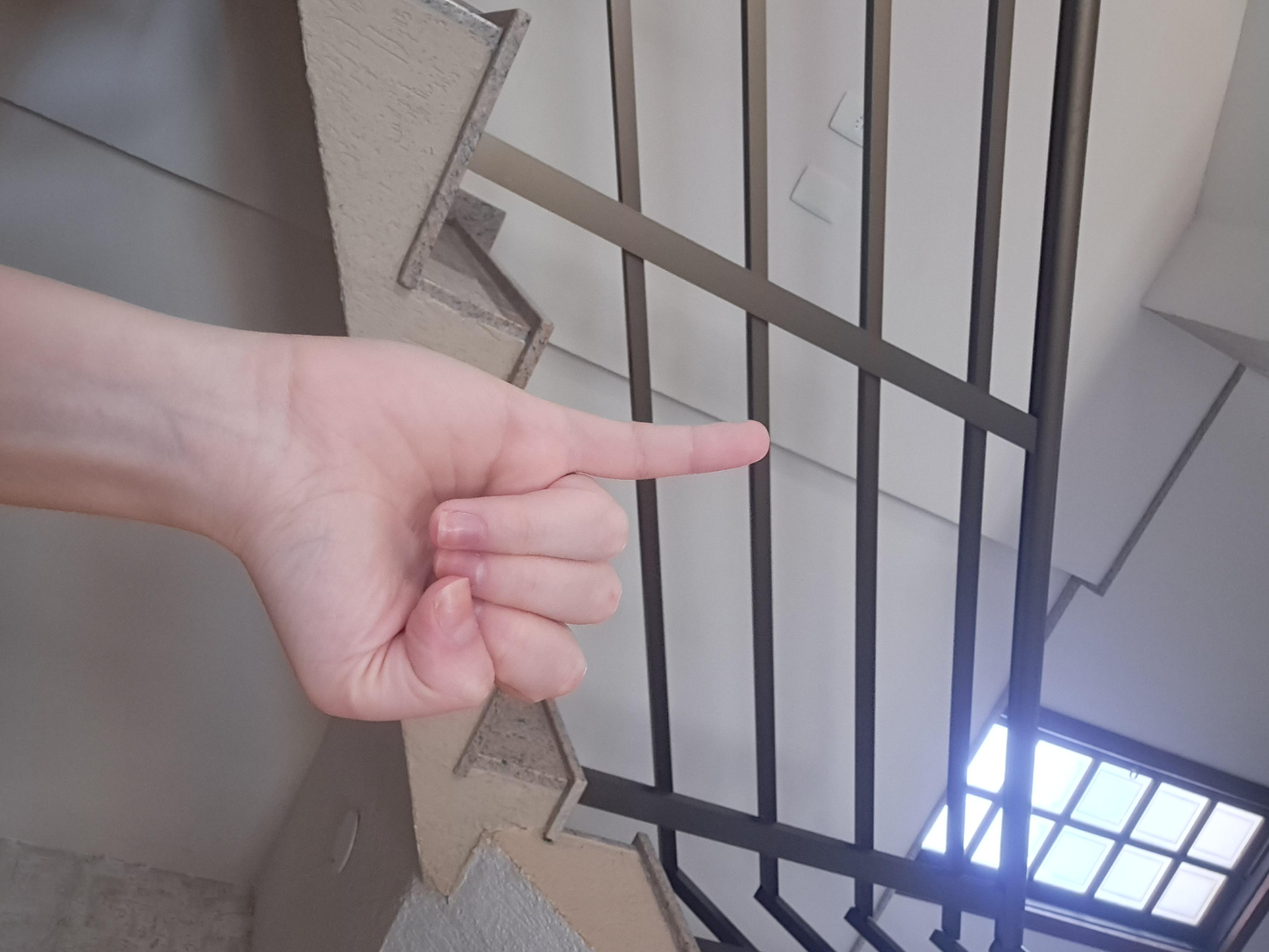I: (435, 365, 975, 799)
